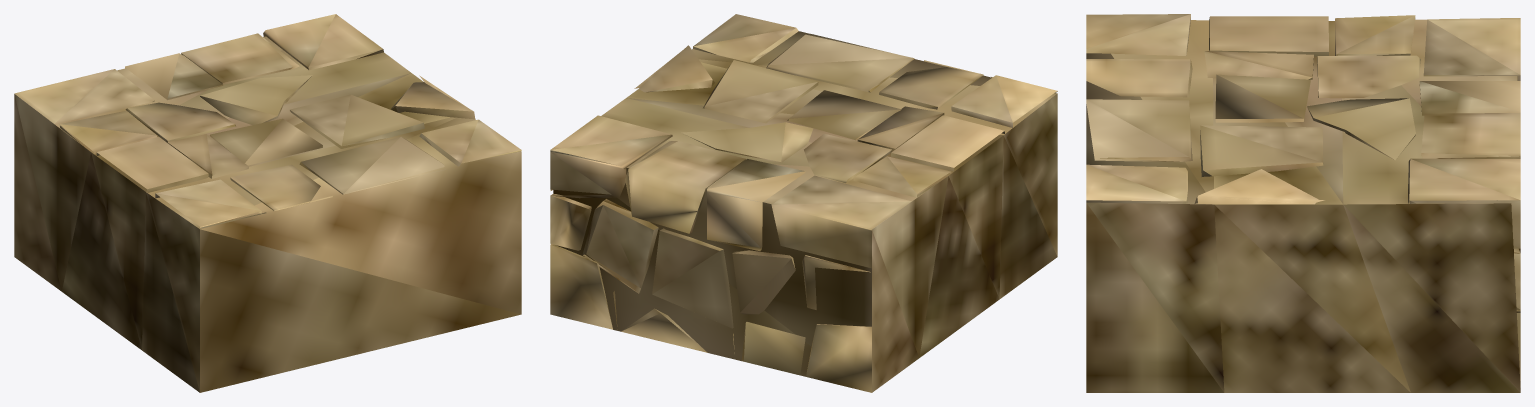
Rendered from block.lod1.glb.
3 renders of one model, left to right at view 1: azimuth 30°, elevation 25°; view 2: azimuth 150°, elevation 25°; view 3: azimuth 270°, elevation 25°, orthographic. The views are drawn at different scales.
Size of the model in its own units: 2 by 1 by 2.
Materials: 1 (1 with a texture image).
